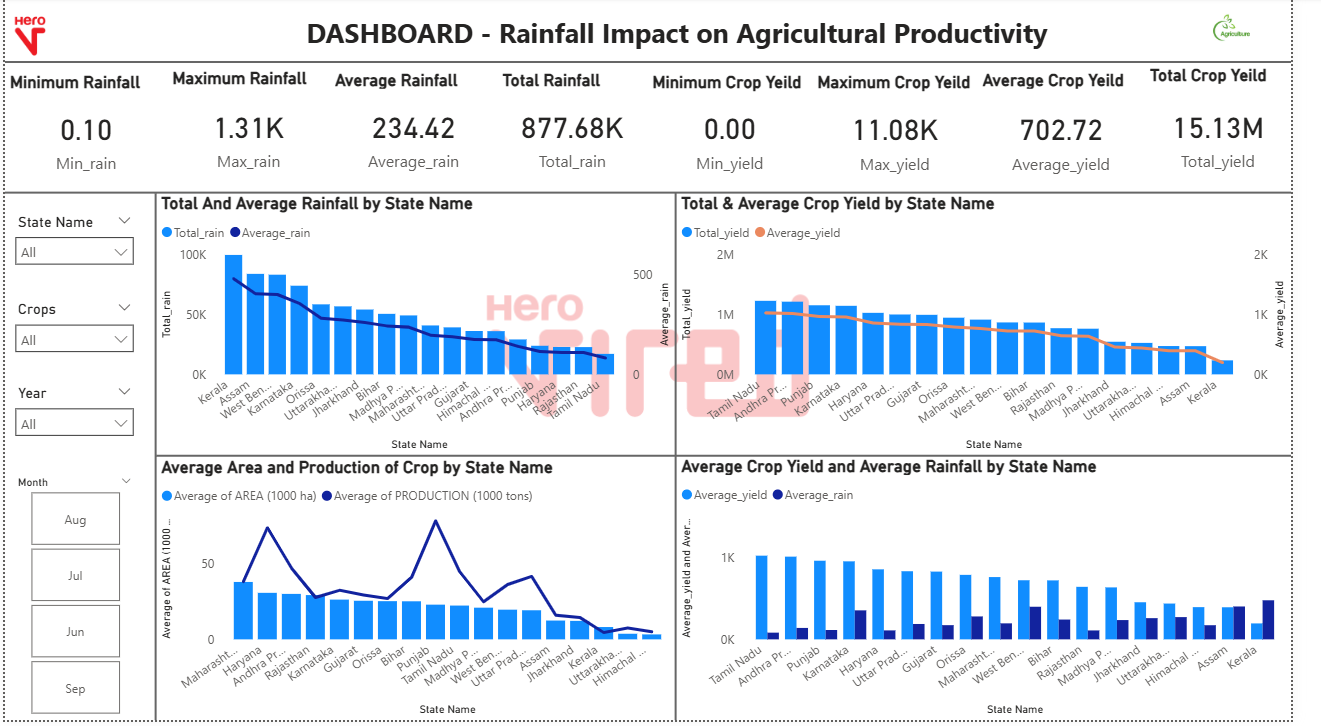

Layout of this report page (visuals, bound fields, positions):
{"tool":"powerbi","page":{"name":"Final Dashboard-2","canvas":[1280,720],"ordinal":1},"visuals":[{"type":"shape","box":[0,47.3,1280,34.8],"z":0},{"type":"image","box":[0,0,51,74.6],"z":1000},{"type":"textbox","box":[287.4,12.4,760.1,48.5],"z":2000},{"type":"slicer","fields":{"Values":["Dim_year.Year"]},"box":[0,380.7,138.1,64.7],"z":3000},{"type":"slicer","fields":{"Values":["Dim_crop.Crops"]},"box":[0,297.3,138.1,62.2],"z":4000},{"type":"slicer","fields":{"Values":["Dim_state.State Name"]},"box":[0,210.2,138.1,62.2],"z":5000},{"type":"shape","box":[0,179.1,1280,31.1],"z":6000},{"type":"shape","box":[150.5,436.6,1129.5,39.8],"z":7000},{"type":"shape","box":[656.8,194.1,21.1,526.2],"z":8000},{"type":"slicer","fields":{"Values":["Dim_rain_month.Month"]},"box":[0,471.5,138.1,248.8],"z":9000},{"type":"shape","box":[138.1,195.3,23.6,525],"z":10000},{"type":"card","title":"Average Crop Yeild","fields":{"Values":["All_Measures.Average_yeild"]},"box":[967.8,72.1,166.7,119.4],"z":11000},{"type":"card","title":"Average Rainfall","fields":{"Values":["All_Measures.Average_rain"]},"box":[323.4,72.1,166.7,114.4],"z":12000},{"type":"card","title":"Total Crop Yeild","fields":{"Values":["All_Measures.Total_yeild"]},"box":[1134.5,67.2,145.5,124.4],"z":13000},{"type":"card","title":"Maximum Crop Yeild","fields":{"Values":["All_Measures.Max_yeild"]},"box":[803.6,74.6,164.2,114.4],"z":14000},{"type":"card","title":"Minimum Crop Yeild","fields":{"Values":["All_Measures.Min_yeild"]},"box":[639.4,74.6,164.2,112],"z":15000},{"type":"card","title":"Total Rainfall","fields":{"Values":["All_Measures.Total_rain"]},"box":[490.1,72.1,149.3,114.4],"z":16000},{"type":"card","title":"Maximum Rainfall","fields":{"Values":["All_Measures.Max_rain"]},"box":[161.7,70.9,161.7,116.9],"z":17000},{"type":"card","title":"Minimum Rainfall","fields":{"Values":["All_Measures.Min_rain"]},"box":[0,74.6,161.7,113.2],"z":18000},{"type":"image","box":[1160.6,0,119.4,61],"z":19000},{"type":"lineStackedColumnComboChart","title":"Total & Average Crop Yield by State Name","fields":{"Category":["Dim_state.State Name"],"Y2":["All_Measures.Average_yeild"],"Y":["All_Measures.Total_yeild"]},"box":[668,195.3,612,261.2],"z":20000},{"type":"clusteredColumnChart","title":"Average Crop Yield and Average Rainfall by State Name","fields":{"Category":["Dim_state.State Name"],"Y":["All_Measures.Average_yeild","All_Measures.Average_rain"]},"box":[668,456.5,612,263.7],"z":21000},{"type":"lineStackedColumnComboChart","title":"Total And Average Rainfall by State Name","fields":{"Category":["Dim_state.State Name"],"Y2":["All_Measures.Average_rain"],"Y":["All_Measures.Total_rain"]},"box":[150.5,195.3,517.5,261.2],"z":22000},{"type":"lineStackedColumnComboChart","title":"Average Area and Production of Crop by State Name","fields":{"Y":["Avg(Fact_agri.AREA (1000 ha))"],"Y2":["Avg(Fact_agri.PRODUCTION (1000 tons))"],"Category":["Dim_state.State Name"]},"box":[150.5,457.8,517.5,262.5],"z":23000}]}

Visuals, with their boxes in screenshot pixels (x1, y1, x2, y2), scaled from the page's 1280x720 canvas onto the 1321x726 screenshot:
shape: detection(0, 48, 1320, 83)
image: detection(0, 0, 53, 75)
textbox: detection(297, 13, 1081, 61)
slicer - Dim_year.Year: detection(0, 384, 143, 449)
slicer - Dim_crop.Crops: detection(0, 300, 143, 362)
slicer - Dim_state.State Name: detection(0, 212, 143, 275)
shape: detection(0, 181, 1320, 212)
shape: detection(155, 440, 1320, 480)
shape: detection(678, 196, 700, 725)
slicer - Dim_rain_month.Month: detection(0, 475, 143, 725)
shape: detection(143, 197, 167, 725)
"Average Crop Yeild" card: detection(999, 73, 1171, 193)
"Average Rainfall" card: detection(334, 73, 506, 188)
"Total Crop Yeild" card: detection(1171, 68, 1320, 193)
"Maximum Crop Yeild" card: detection(829, 75, 999, 191)
"Minimum Crop Yeild" card: detection(660, 75, 829, 188)
"Total Rainfall" card: detection(506, 73, 660, 188)
"Maximum Rainfall" card: detection(167, 71, 334, 189)
"Minimum Rainfall" card: detection(0, 75, 167, 189)
image: detection(1198, 0, 1320, 62)
"Total & Average Crop Yield by State Name" lineStackedColumnComboChart: detection(689, 197, 1320, 460)
"Average Crop Yield and Average Rainfall by State Name" clusteredColumnChart: detection(689, 460, 1320, 725)
"Total And Average Rainfall by State Name" lineStackedColumnComboChart: detection(155, 197, 689, 460)
"Average Area and Production of Crop by State Name" lineStackedColumnComboChart: detection(155, 462, 689, 725)
